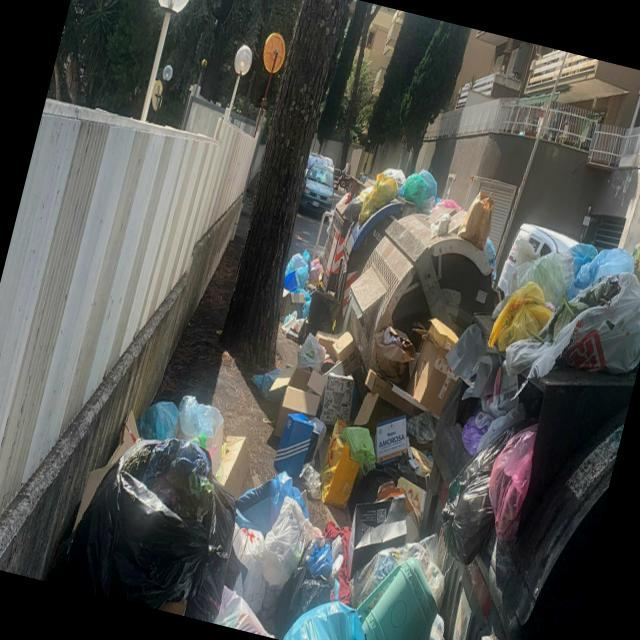garbage: (69, 106, 640, 640)
